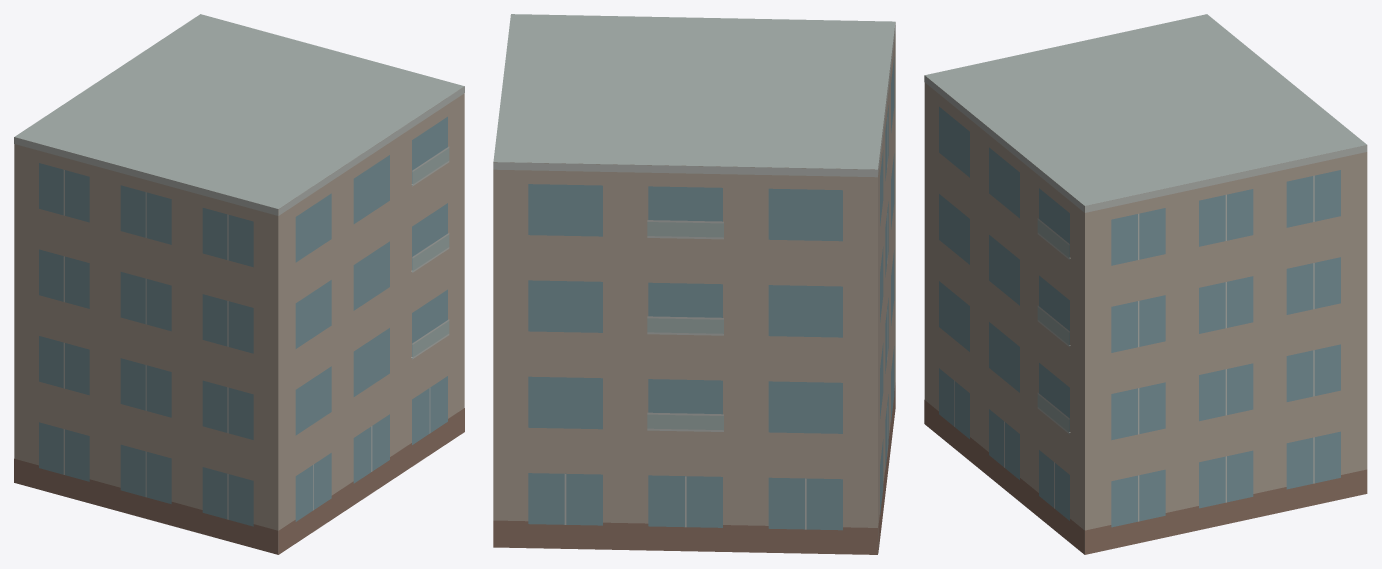
The model's file is survey-upis-32830673.glb.
The picture shows the model from 3 angles, left to right: view 1: azimuth 30°, elevation 25°; view 2: azimuth 150°, elevation 25°; view 3: azimuth 270°, elevation 25°; orthographic projection. The views are drawn at different scales.
Visible parts, largest first — view 1: survey-upis-32830673.tmp; view 2: survey-upis-32830673.tmp; view 3: survey-upis-32830673.tmp.
Part boxes in pixels (x1,y1,x2,y2): survey-upis-32830673.tmp: (14, 14, 464, 554); survey-upis-32830673.tmp: (493, 14, 895, 554); survey-upis-32830673.tmp: (924, 14, 1367, 554).
Size of the model in its own units: 14.41 by 12.2 by 14.04.
